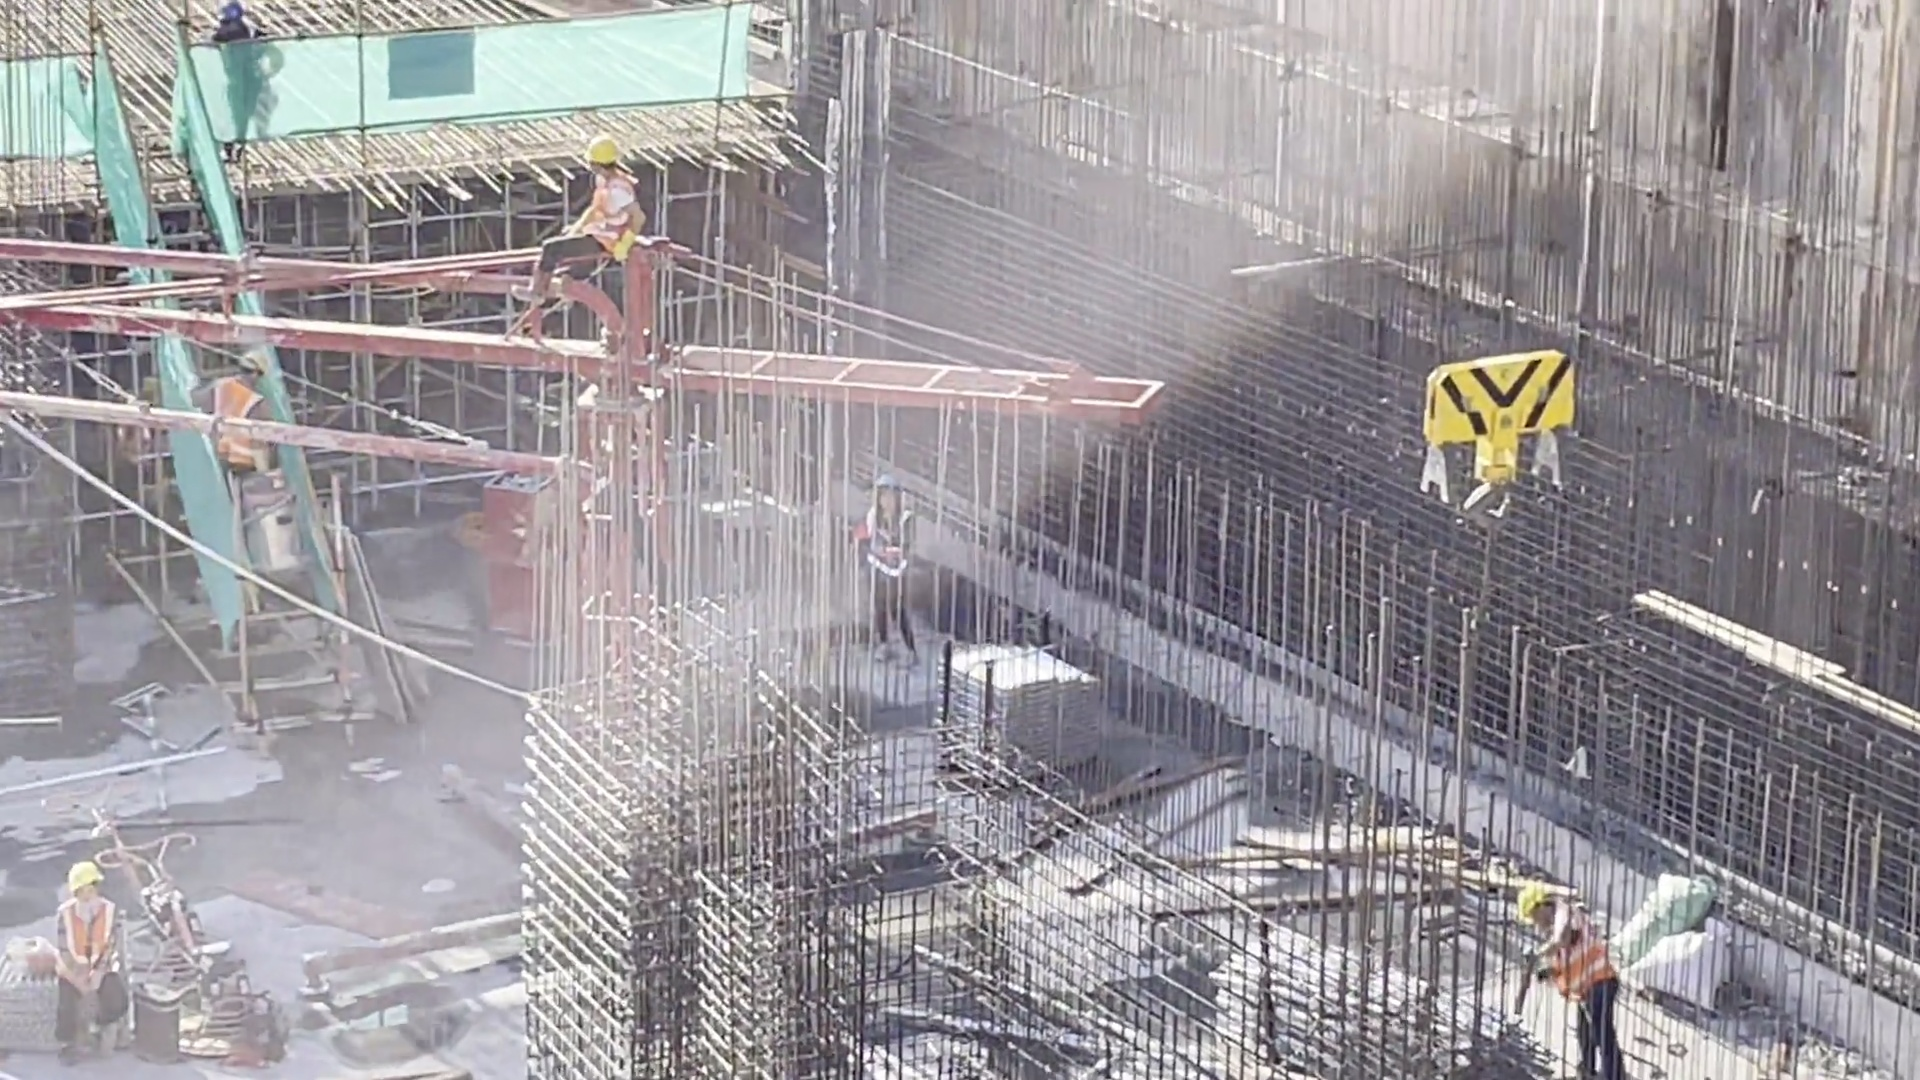helmet: (573, 124, 629, 179), (243, 345, 291, 397), (64, 850, 118, 883), (1506, 880, 1558, 912), (870, 468, 912, 502)
person: (192, 338, 321, 546), (1503, 878, 1627, 1080), (521, 139, 647, 332), (52, 849, 151, 1039), (181, 6, 289, 172), (860, 465, 923, 671)
vest: (190, 377, 282, 467), (52, 896, 132, 987), (582, 183, 655, 265), (1552, 920, 1623, 996), (866, 511, 910, 575)
